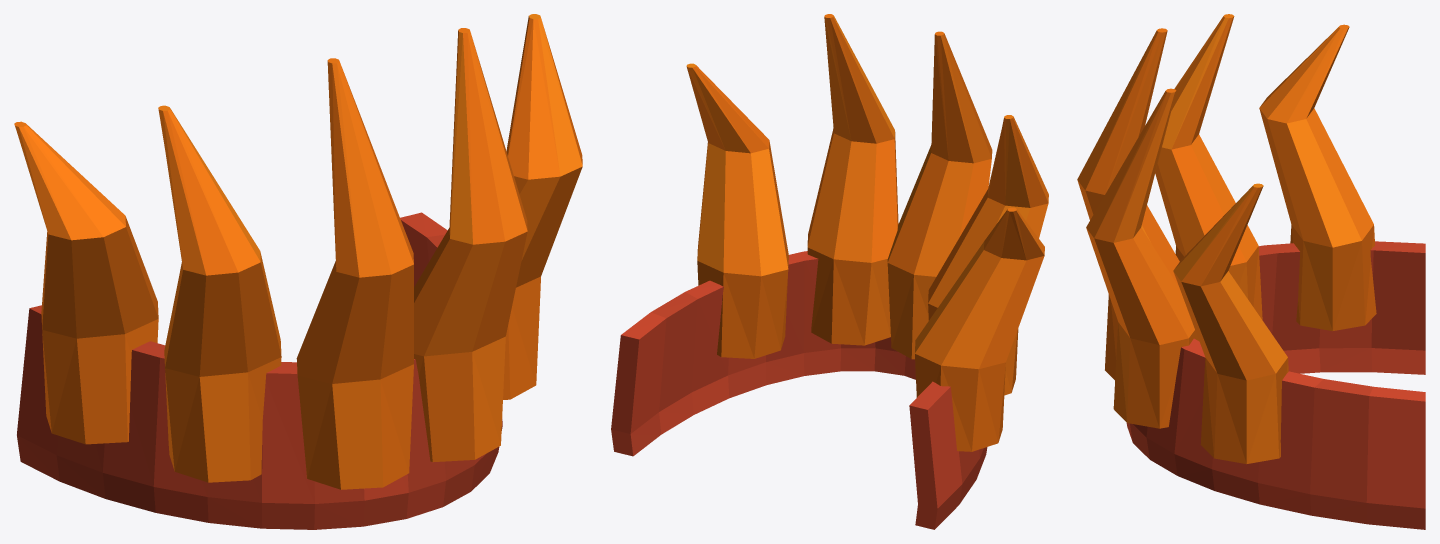
Rendered from ES_12_Flowing_Flame_Heel_Cuff.fbx.
The picture shows the model from 3 angles, left to right: view 1: azimuth 30°, elevation 25°; view 2: azimuth 150°, elevation 25°; view 3: azimuth 270°, elevation 25°; orthographic projection. The views are drawn at different scales.
Parts seen in each view (by area): view 1: ES_12_Flowing_Flame_Heel_Cuff; view 2: ES_12_Flowing_Flame_Heel_Cuff; view 3: ES_12_Flowing_Flame_Heel_Cuff.
Part boxes in pixels (bbox=[...]): ES_12_Flowing_Flame_Heel_Cuff: bbox=[14, 14, 582, 529]; ES_12_Flowing_Flame_Heel_Cuff: bbox=[611, 14, 1048, 529]; ES_12_Flowing_Flame_Heel_Cuff: bbox=[1077, 14, 1425, 529].
Size of the model in its own units: 0.9991 by 0.952 by 0.7587.
2 materials, 2 textured.
